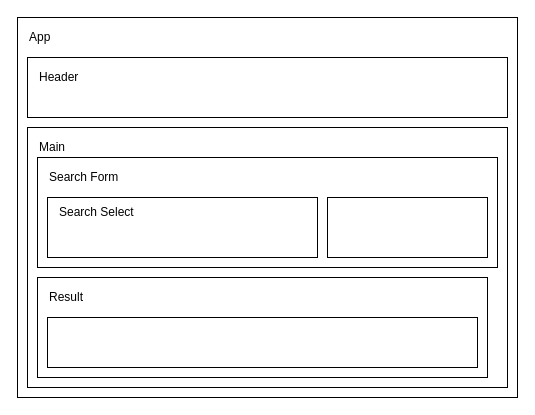
This 535x415 diagram has some shape labels left out. The centre of each missing label's shape, as x and y in pixels:
"Location" belongs at (x=262, y=342).
"Search Button" belongs at (x=407, y=227).
